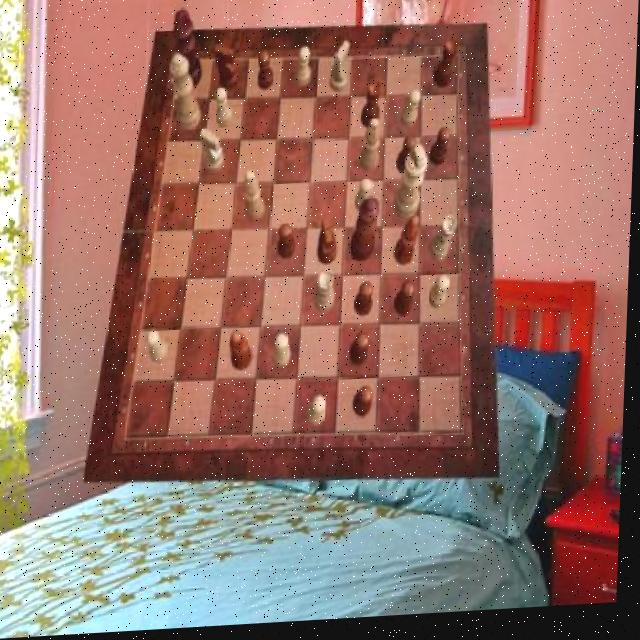bishop: (396, 220, 422, 272), (232, 332, 257, 375)
black-bishop: (173, 11, 205, 94)
black-king: (214, 46, 240, 93), (319, 219, 341, 269)
black-knight: (431, 132, 453, 171), (397, 140, 417, 179), (258, 53, 277, 94), (396, 285, 418, 320), (357, 285, 377, 321), (352, 336, 372, 371), (280, 227, 298, 264), (357, 389, 377, 421)
black-pawn: (352, 202, 381, 267)
black-queen: (433, 45, 459, 95), (362, 84, 383, 133)
black-rook: (244, 172, 268, 224), (360, 122, 382, 177)
white-bishop: (394, 149, 430, 224)
white-king: (201, 129, 227, 176), (329, 45, 350, 98)
white-knight: (149, 330, 173, 366), (214, 89, 235, 130), (402, 95, 423, 134), (295, 50, 313, 91), (432, 280, 453, 315), (358, 182, 376, 218), (277, 335, 295, 370), (310, 400, 329, 431)
white-pawn: (168, 54, 204, 134)
white-queen: (430, 220, 458, 266), (318, 275, 339, 317)
